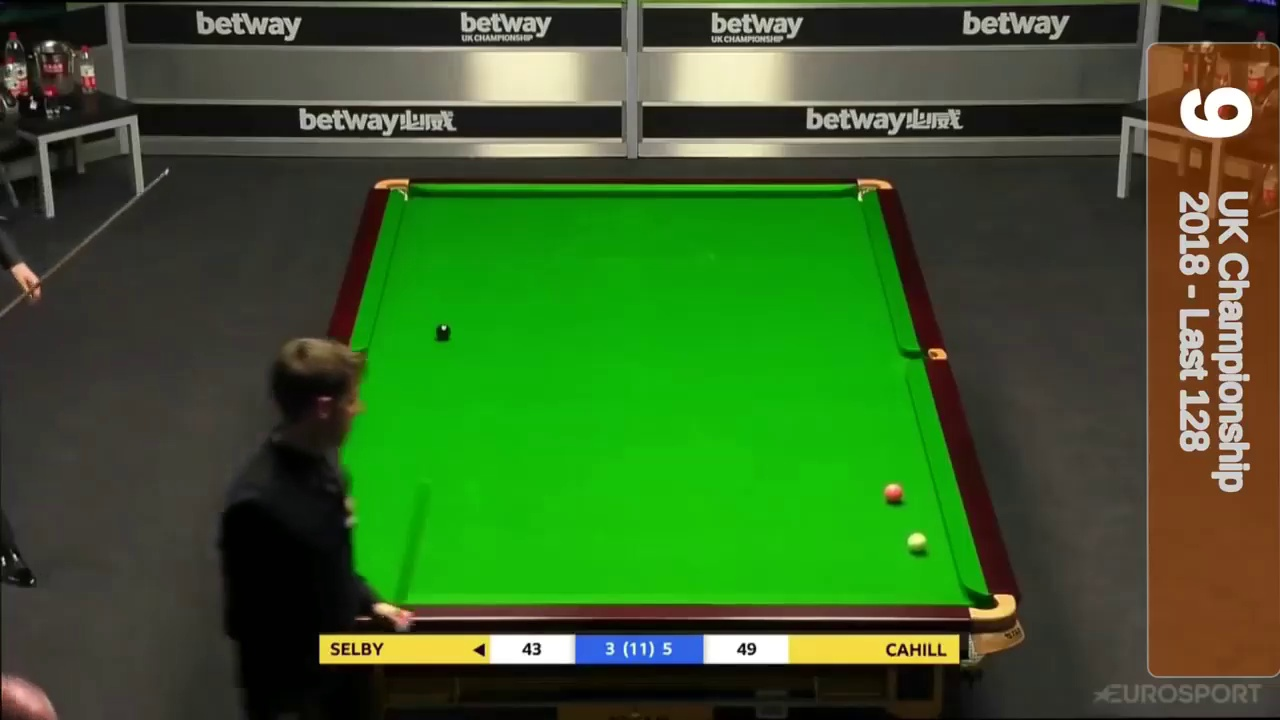ball: (884, 481, 907, 502), (435, 323, 449, 340)
